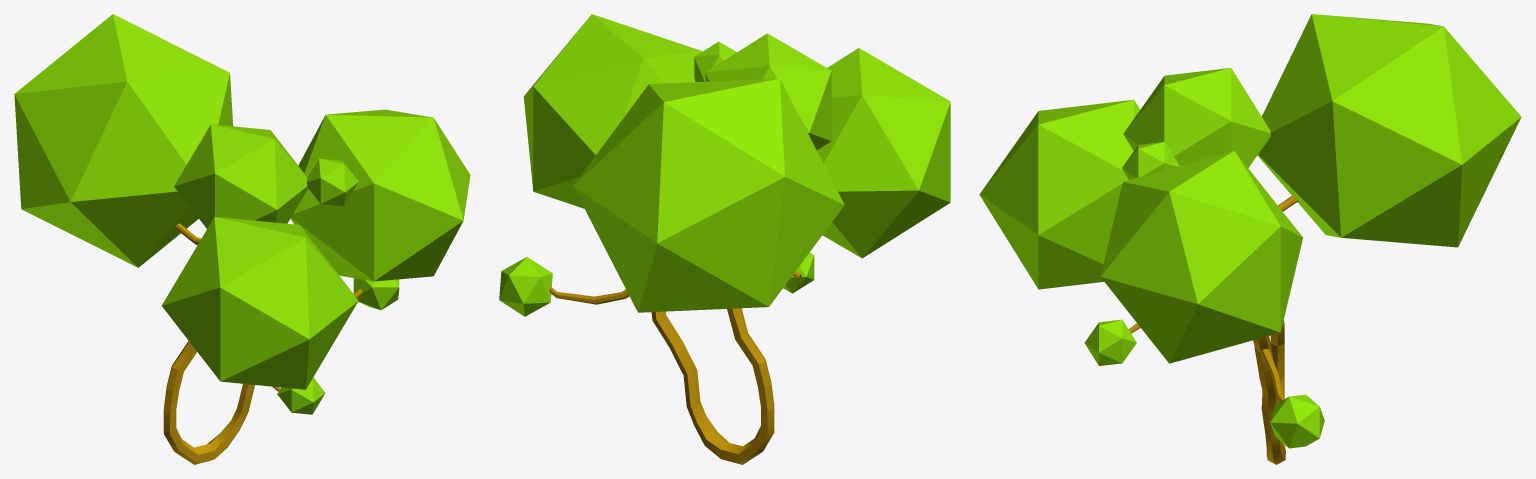
Rendered from tree.fbx.
3 renders of one model, left to right at view 1: azimuth 30°, elevation 25°; view 2: azimuth 150°, elevation 25°; view 3: azimuth 270°, elevation 25°, orthographic. The views are drawn at different scales.
Parts seen in each view (by area): view 1: pPlatonic2, pPlatonic3, pPlatonic4, pPlatonic1, pCylinder12, pPlatonic5, pPlatonic6, pPlatonic7; view 2: pPlatonic2, pPlatonic3, pPlatonic4, pCylinder12, pPlatonic1, pPlatonic6, pPlatonic5, pPlatonic7; view 3: pPlatonic2, pPlatonic4, pPlatonic3, pPlatonic1, pCylinder12, pPlatonic6, pPlatonic7, pPlatonic5.
Part boxes in pixels (x1=…): pPlatonic2: x1=14, y1=14, x2=233, y2=267; pPlatonic3: x1=161, y1=216, x2=358, y2=389; pPlatonic4: x1=290, y1=109, x2=470, y2=281; pPlatonic1: x1=174, y1=124, x2=308, y2=228; pCylinder12: x1=163, y1=223, x2=361, y2=464; pPlatonic5: x1=306, y1=158, x2=358, y2=206; pPlatonic6: x1=353, y1=278, x2=399, y2=310; pPlatonic7: x1=277, y1=377, x2=325, y2=414; pPlatonic2: x1=573, y1=78, x2=844, y2=312; pPlatonic3: x1=817, y1=48, x2=950, y2=258; pPlatonic4: x1=523, y1=14, x2=701, y2=208; pCylinder12: x1=549, y1=271, x2=801, y2=464; pPlatonic1: x1=705, y1=33, x2=831, y2=150; pPlatonic6: x1=499, y1=257, x2=552, y2=316; pPlatonic5: x1=694, y1=41, x2=736, y2=81; pPlatonic7: x1=783, y1=252, x2=814, y2=293; pPlatonic2: x1=1257, y1=14, x2=1521, y2=247; pPlatonic4: x1=1100, y1=150, x2=1302, y2=363; pPlatonic3: x1=979, y1=99, x2=1140, y2=289; pPlatonic1: x1=1123, y1=68, x2=1270, y2=167; pCylinder12: x1=1128, y1=195, x2=1298, y2=464; pPlatonic6: x1=1270, y1=394, x2=1324, y2=448; pPlatonic7: x1=1084, y1=319, x2=1136, y2=365; pPlatonic5: x1=1122, y1=142, x2=1179, y2=179.
Size of the model in its own units: 28.42 by 30.7 by 35.24.
